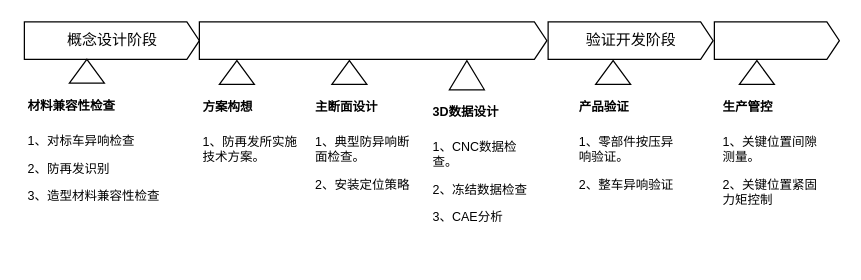
This 861x280 diagram has some shape labels left out. The centre of each missing label's shape, as x and y in pixels:
"生产一致性" belongs at point (776, 40).
"详细设计阶段" belongs at point (372, 40).
